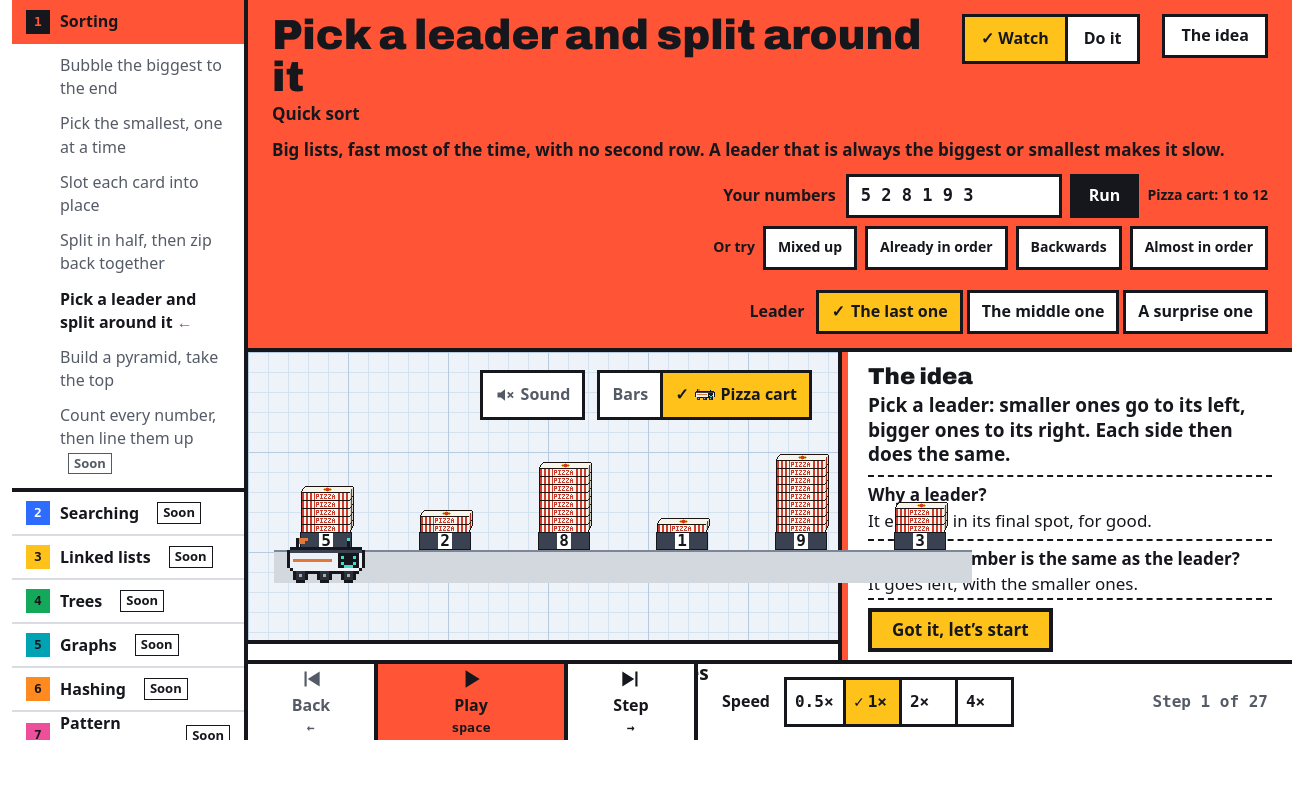
Test: the pizza look uses 1 to 12; bars keep 0 to 99 › typed big numbers are kept, with bars and the message
Replace the text in the field labelled "Your numbers" with "50 20 90" at x=954, y=196, box [846,174,1062,218]
Then press Enter
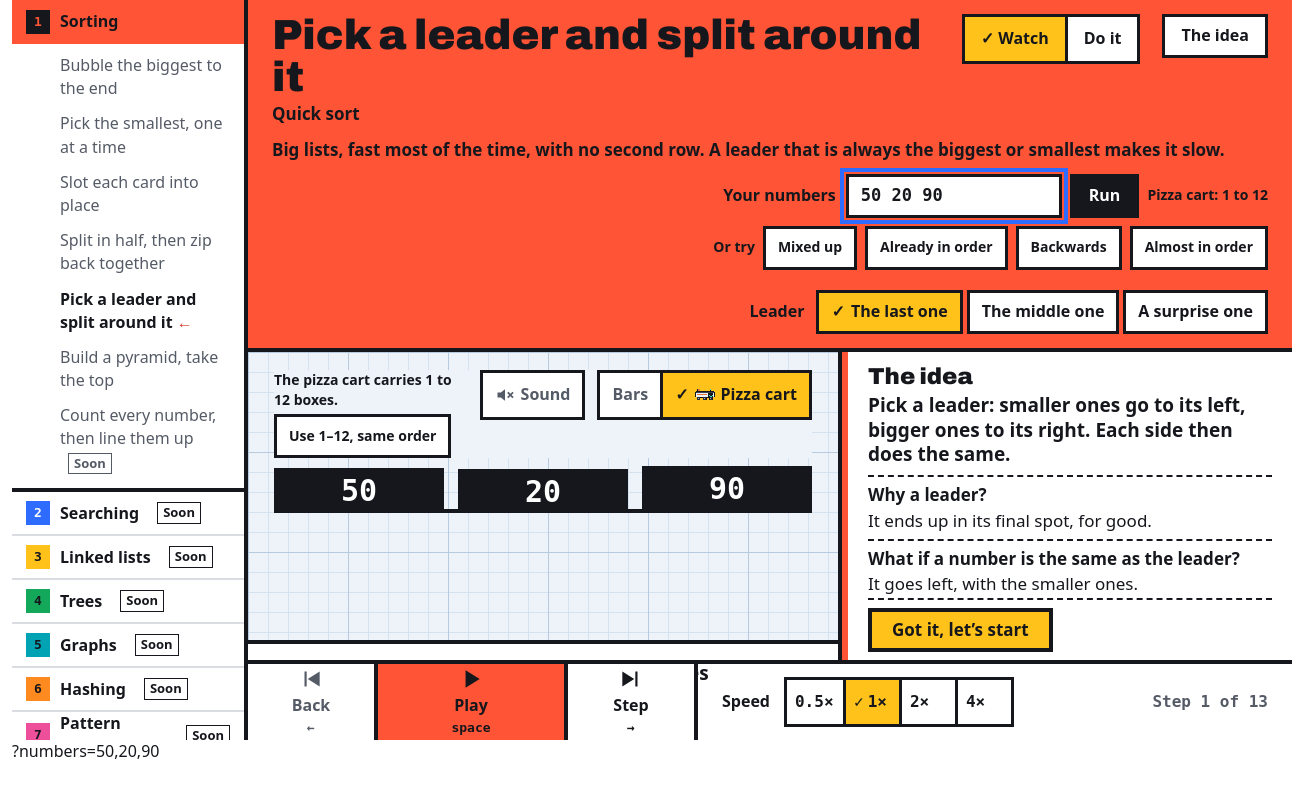
Expected: the message "The pizza cart carries 1 to 12 boxes. Use 1–12, same order" is shown, [274,370,468,458]
